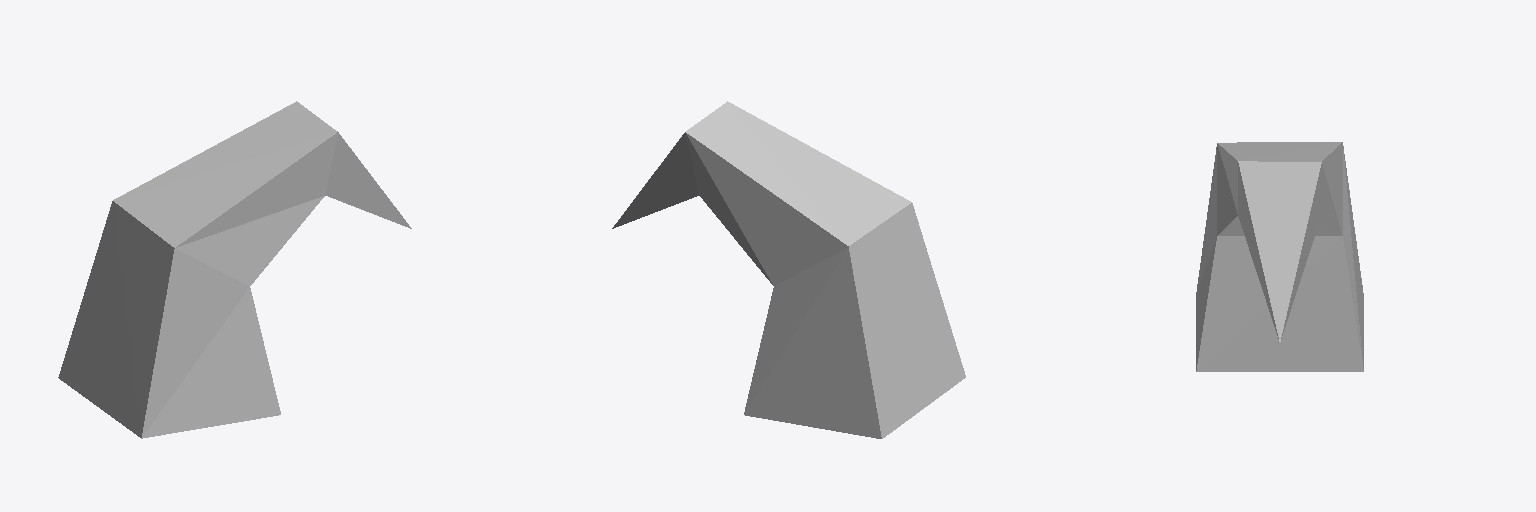
File: skeletal_000028.obj
3 renders of one model, left to right at view 1: azimuth 30°, elevation 25°; view 2: azimuth 150°, elevation 25°; view 3: azimuth 270°, elevation 25°, orthographic.
Visible parts, largest first — view 1: Cube; view 2: Cube; view 3: Cube.
Boxes of the visible parts, box(x1,y1,x2,y2) form: Cube: box(58, 101, 411, 438); Cube: box(612, 101, 965, 438); Cube: box(1196, 142, 1363, 371).
Bounding box in the file's own units: 4.31 × 3.28 × 2.